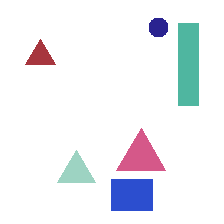circle: (149, 18, 167, 36)
rectangle: (178, 23, 198, 105), (111, 179, 152, 210)
triangle: (116, 128, 165, 170), (57, 150, 95, 182), (25, 39, 55, 64)
